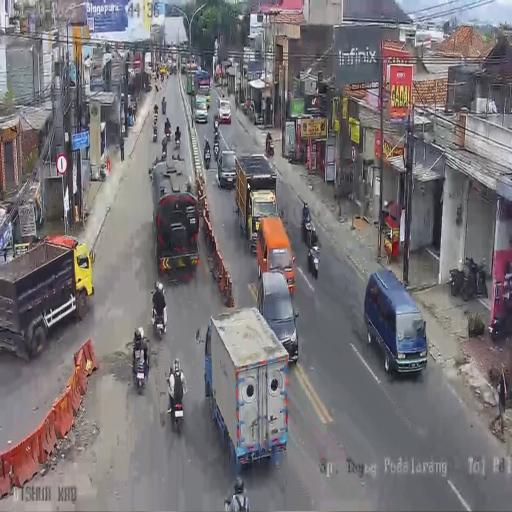car: (257, 273, 299, 364), (217, 148, 237, 189), (194, 94, 208, 124), (217, 98, 232, 124), (198, 78, 211, 95), (159, 63, 168, 77)
motorcycle: (450, 256, 488, 302), (167, 374, 186, 433), (132, 344, 150, 396), (152, 300, 167, 340), (213, 132, 220, 160), (265, 138, 275, 157), (161, 134, 168, 156), (204, 146, 210, 168), (174, 132, 181, 150), (152, 124, 158, 142), (164, 124, 171, 139), (153, 108, 158, 125), (162, 100, 166, 114), (155, 83, 159, 93), (166, 72, 169, 81)
truck: (0, 234, 96, 360), (363, 270, 427, 374), (152, 162, 200, 279), (235, 153, 277, 248), (186, 72, 196, 95), (186, 58, 197, 76), (144, 52, 152, 74), (180, 56, 188, 72)
